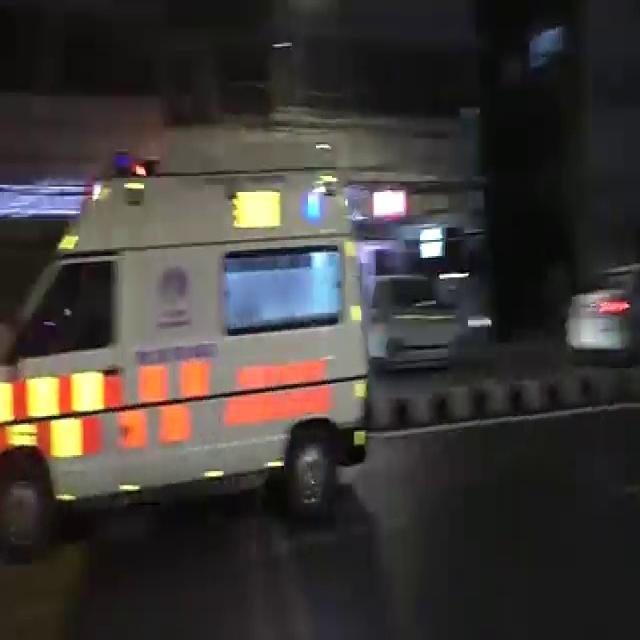ambulance: (6, 158, 383, 516)
